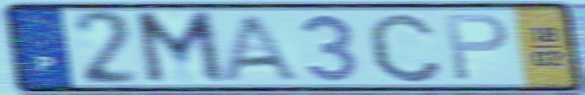2: (71, 5, 143, 91)
3: (298, 11, 362, 84)
A: (215, 12, 306, 83)
C: (363, 9, 447, 85)
M: (131, 9, 230, 87)
P: (442, 12, 512, 83)
